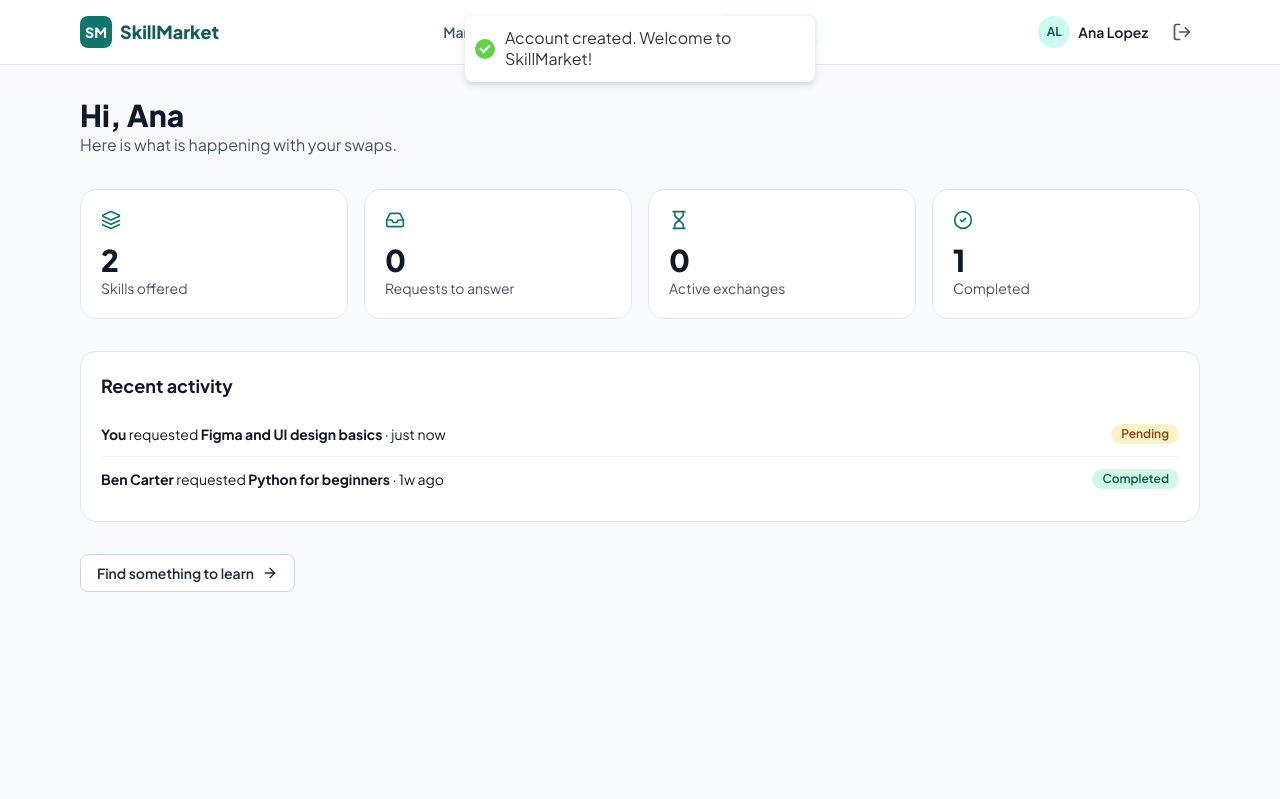
Test: authentication › signs out
Expected: the heading "Hi, Ana" is shown, [80,96,184,134]
Click the button named "Sign out" at (1182, 32), box [1164,14,1200,50]
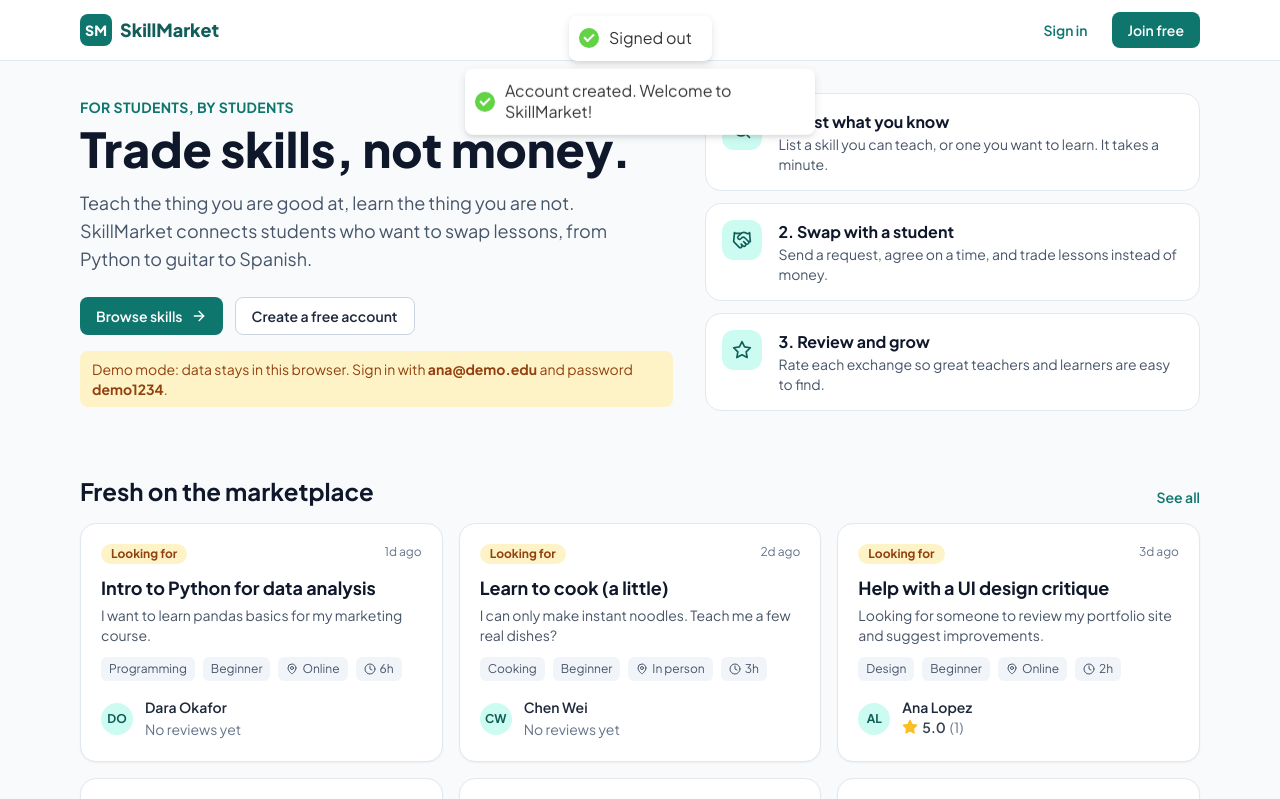
Now the heading "Trade skills, not money." is shown, box [80,125,674,173]
